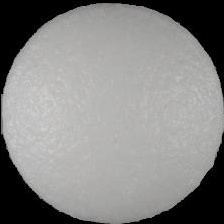54868-6128: (0, 0, 224, 224)
